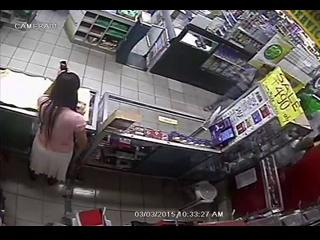Normal: (28, 68, 90, 188)
